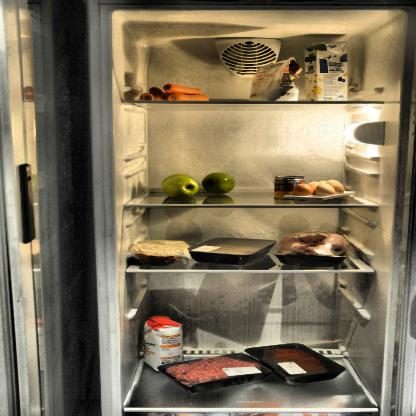apple: (163, 173, 237, 197)
beef: (260, 345, 336, 378)
carrot: (136, 83, 212, 101)
chicken: (275, 231, 349, 260)
corn: (269, 174, 307, 200)
eggs: (294, 180, 352, 199)
ground_beef: (162, 354, 260, 387)
milk: (304, 42, 353, 104)
